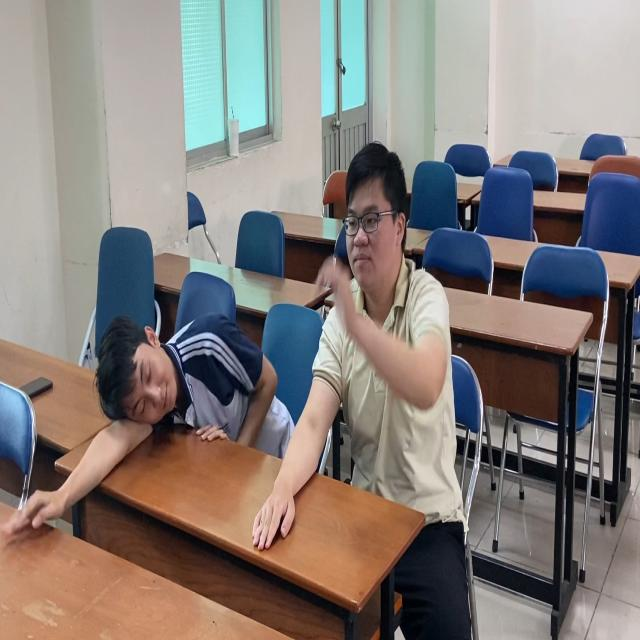sleep: (27, 314, 288, 467)
